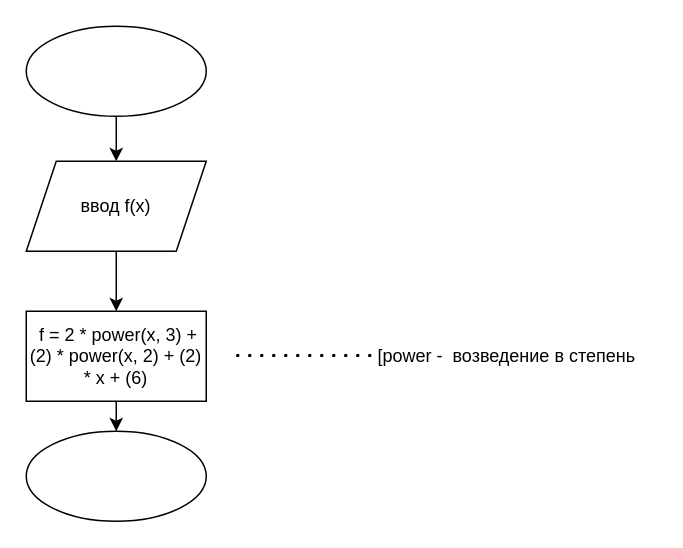
This 683x548 diagram has some shape labels left out. The centre of each missing label's shape, as x and y in pixels:
конец: pixel 115 475
начало: pixel 115 70
